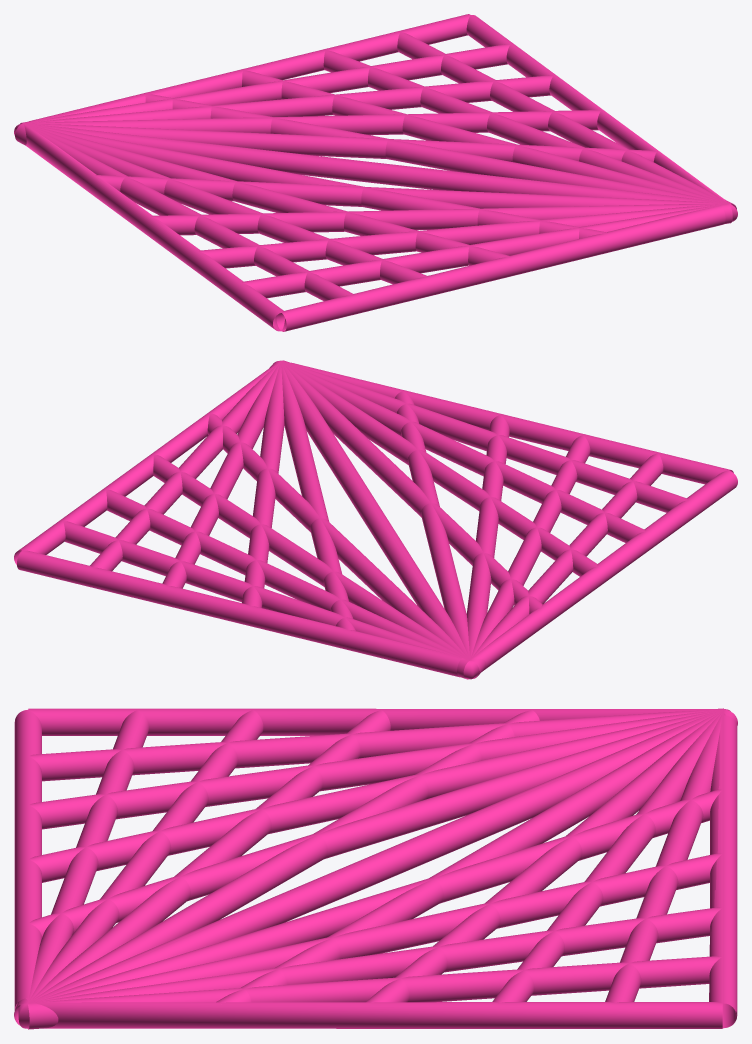
Rendered from symbol5.dae.
3 views of the same model, one above another, from view 1: azimuth 30°, elevation 25°; view 2: azimuth 150°, elevation 25°; view 3: azimuth 270°, elevation 25° (orthographic). The views are drawn at different scales.
Parts seen in each view (by area): view 1: Curve; view 2: Curve; view 3: Curve.
Part boxes in pixels (left/top/right/bottom): Curve: left=14, top=14, right=737, bottom=331; Curve: left=14, top=360, right=737, bottom=679; Curve: left=14, top=708, right=737, bottom=1029.
Size of the model in its own units: 0.942 by 0.9441 by 0.0356.
